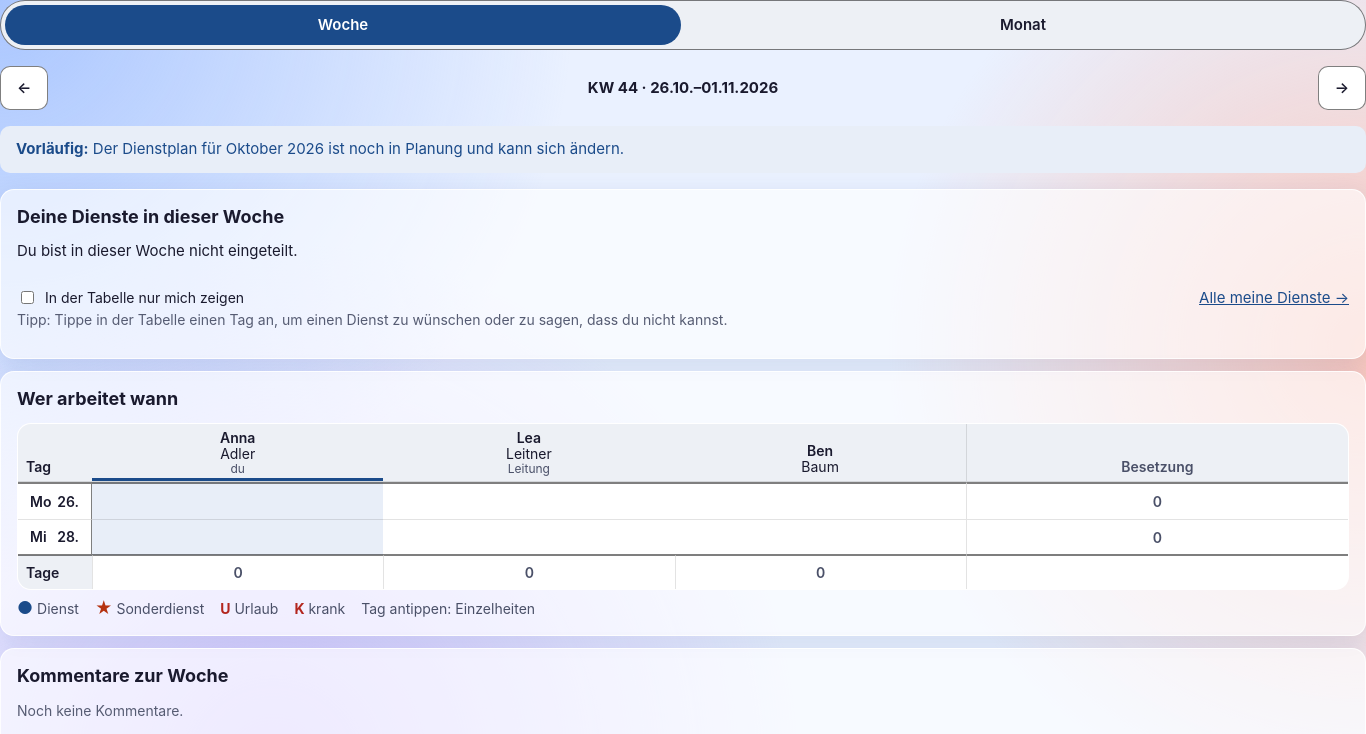
Test: Dienstplan: Anzeige › „Deine Dienste“ zeigt die eigenen Dienste der Woche mit Stunden; die eigene Spalte steht vorn
The width and height of the screenshot is (1366, 734).
Check: the text "KW 44 · 26.10.–01.11.2026" is shown, box [588,78,778,97]
Click the button "→" at {"x": 1342, "y": 88}, box [1318,66,1365,110]
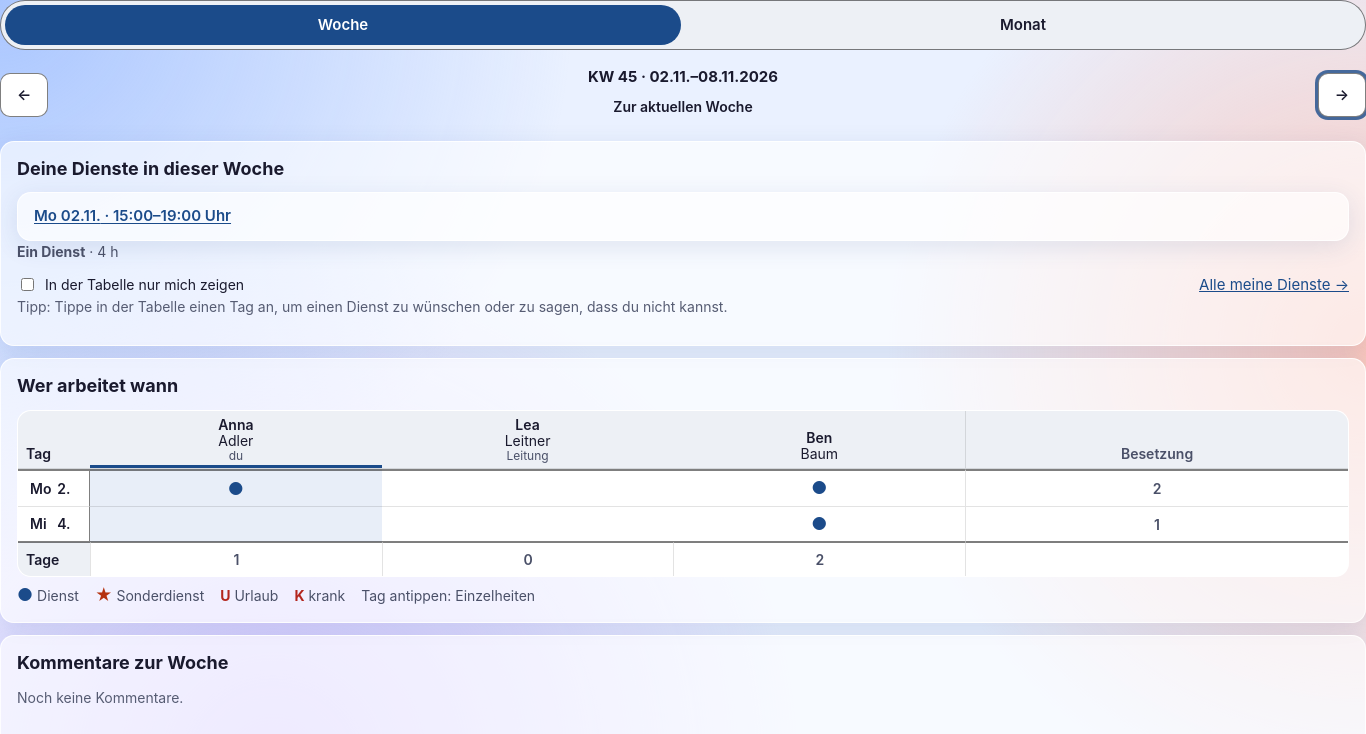
Check: the column heading "Anna Adler du" is shown, box [90,410,382,470]
Check: the list named "Meine Dienste im Zeitraum" shows "15:00–19:00 Uhr", box [34,205,231,228]
Check: the element showing "Ein Dienst · 4 h" is shown, box [17,240,118,262]
